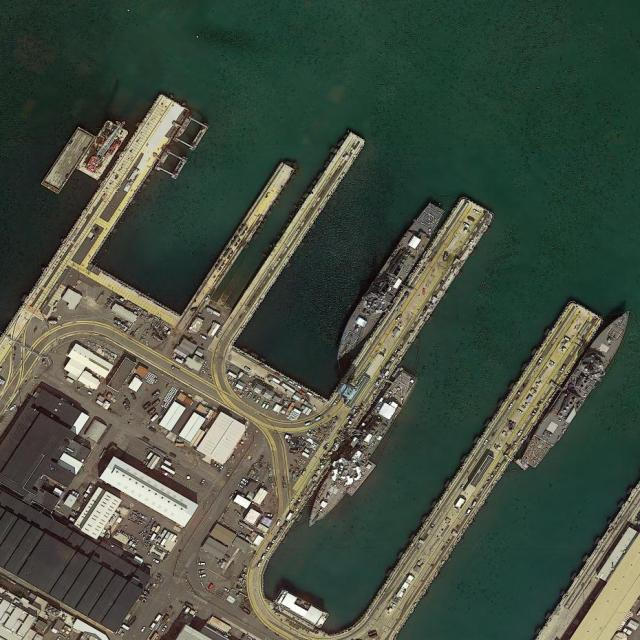Destroyer: (518, 304, 637, 473), (301, 365, 419, 535), (326, 200, 447, 365)
Dock: (368, 297, 604, 634), (330, 191, 495, 420), (214, 130, 368, 343), (58, 89, 189, 268), (179, 158, 299, 321)
